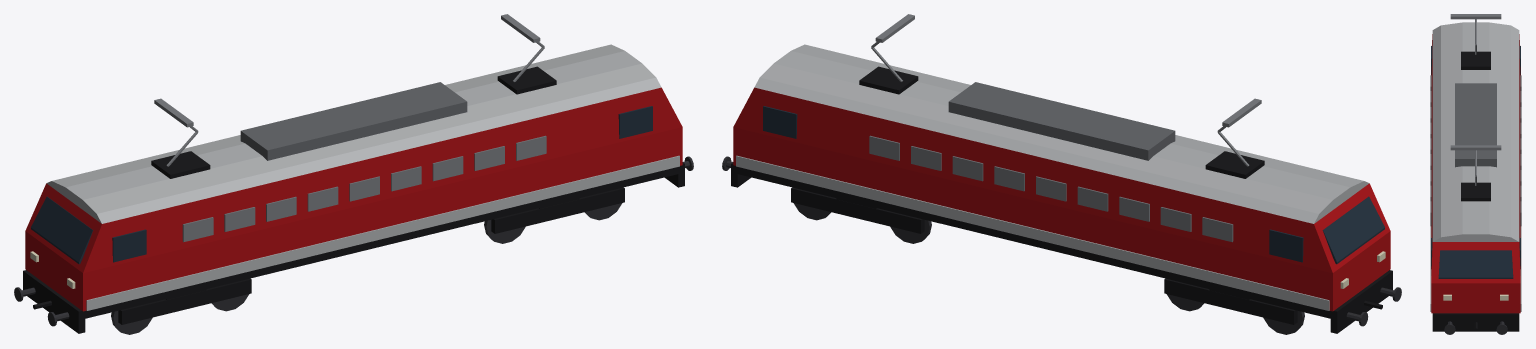
The model's file is electric_loco.obj.
3 views of the same model, side by side, from view 1: azimuth 30°, elevation 25°; view 2: azimuth 150°, elevation 25°; view 3: azimuth 270°, elevation 25° (orthographic). The views are drawn at different scales.
Bounding box in the file's own units: 19.2 × 5.68 × 3.06.
